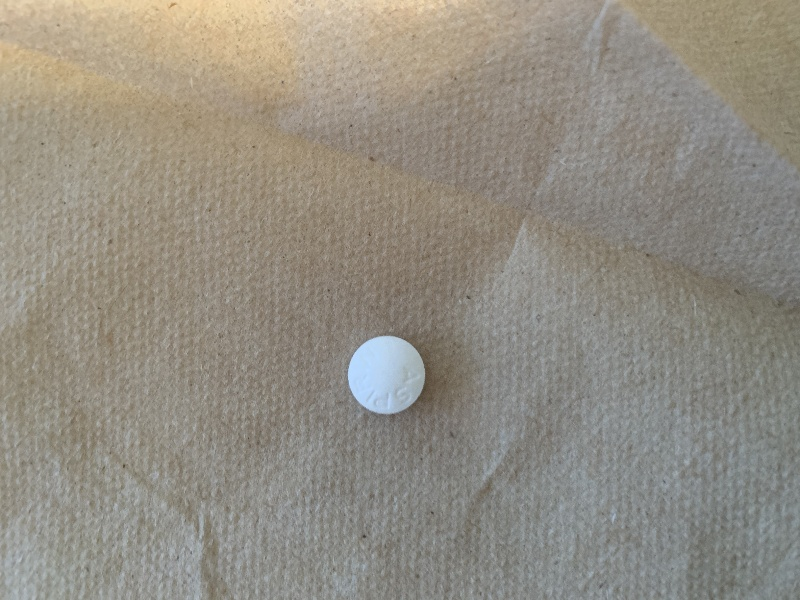Aspirin: (345, 332, 428, 417)
